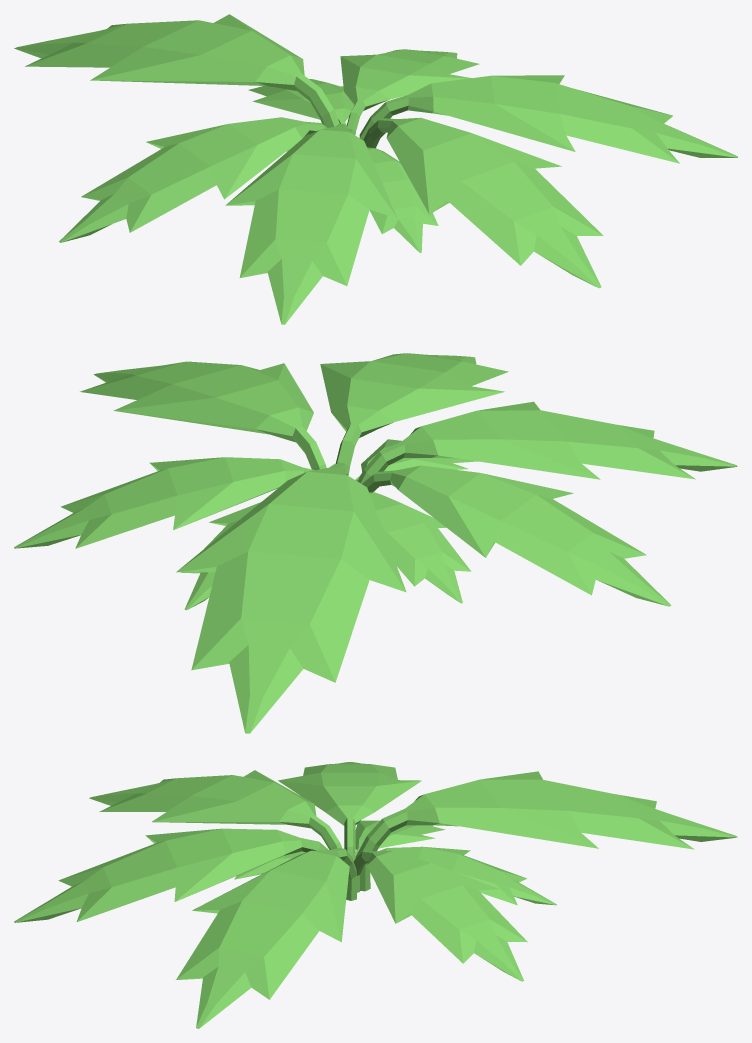
The model's file is Plant.fbx.
3 renders of one model, top to bottom at view 1: azimuth 30°, elevation 25°; view 2: azimuth 150°, elevation 25°; view 3: azimuth 270°, elevation 25°, orthographic. The views are drawn at different scales.
Parts seen in each view (by area): view 1: Plant; view 2: Plant; view 3: Plant.
Boxes of the visible parts, x1=… form: Plant: x1=14, y1=14, x2=737, y2=324; Plant: x1=14, y1=353, x2=737, y2=733; Plant: x1=14, y1=762, x2=737, y2=1028.
Bounding box in the file's own units: 37.08 × 5.11 × 42.39.
